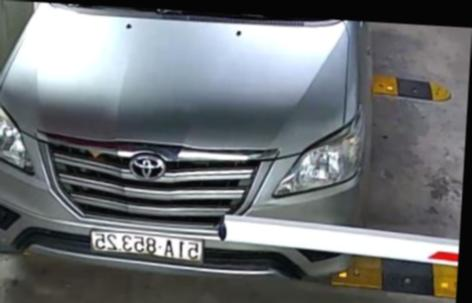License_Plate: (87, 224, 207, 265)
